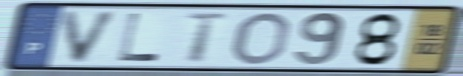8: (353, 12, 403, 67)
9: (292, 11, 345, 67)
L: (116, 12, 163, 63)
O: (229, 10, 294, 67)
T: (183, 11, 232, 65)
V: (60, 9, 124, 65)
